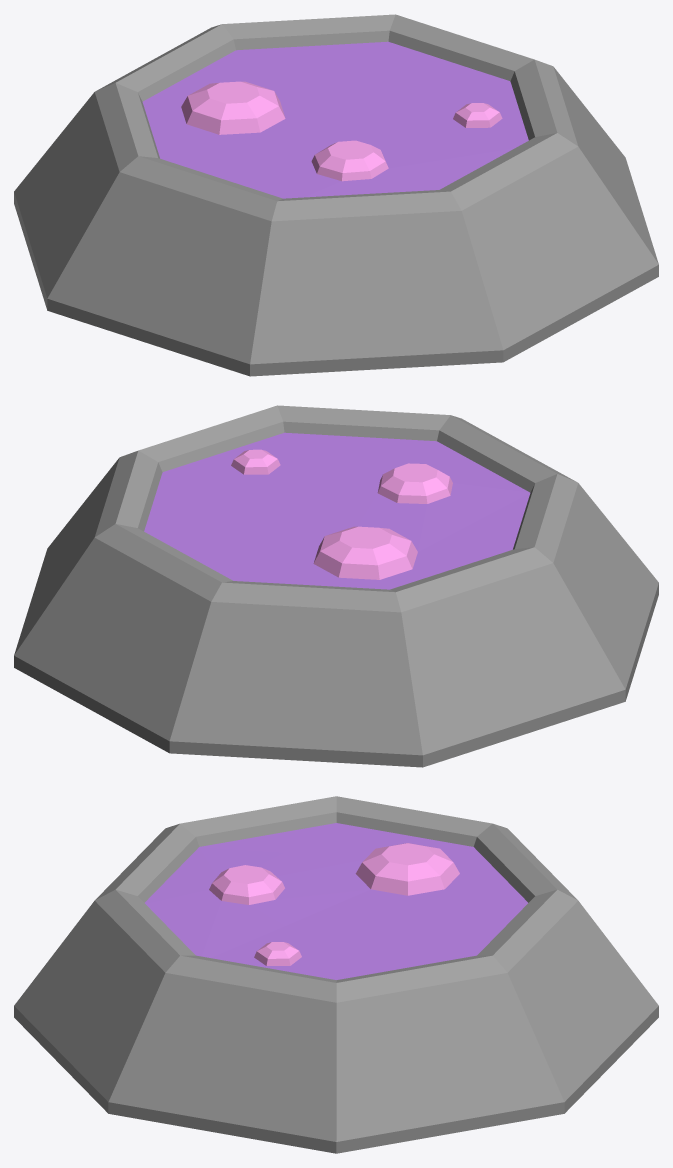
File: FilledFoodBowl.fbx
The picture shows the model from 3 angles, top to bottom: view 1: azimuth 30°, elevation 25°; view 2: azimuth 150°, elevation 25°; view 3: azimuth 270°, elevation 25°; orthographic projection. The views are drawn at different scales.
Visible parts, largest first — view 1: Circle; view 2: Circle; view 3: Circle.
Part boxes in pixels (x1,y1,x2,y2): Circle: [14, 14, 658, 376]; Circle: [14, 405, 658, 767]; Circle: [14, 796, 658, 1153].
Bounding box in the file's own units: 100 × 22.58 × 100.
